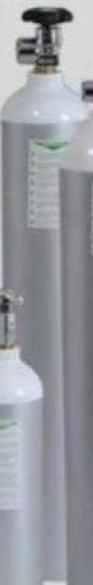cylinder: (0, 1, 93, 585)
